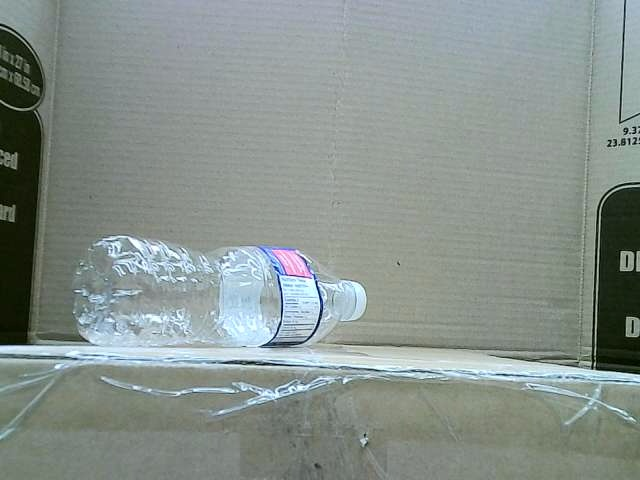WaterBottle: (71, 235, 367, 346)
